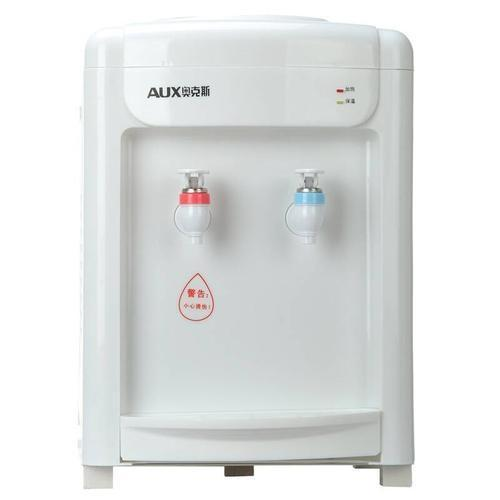Dispenser: (81, 13, 412, 489)
